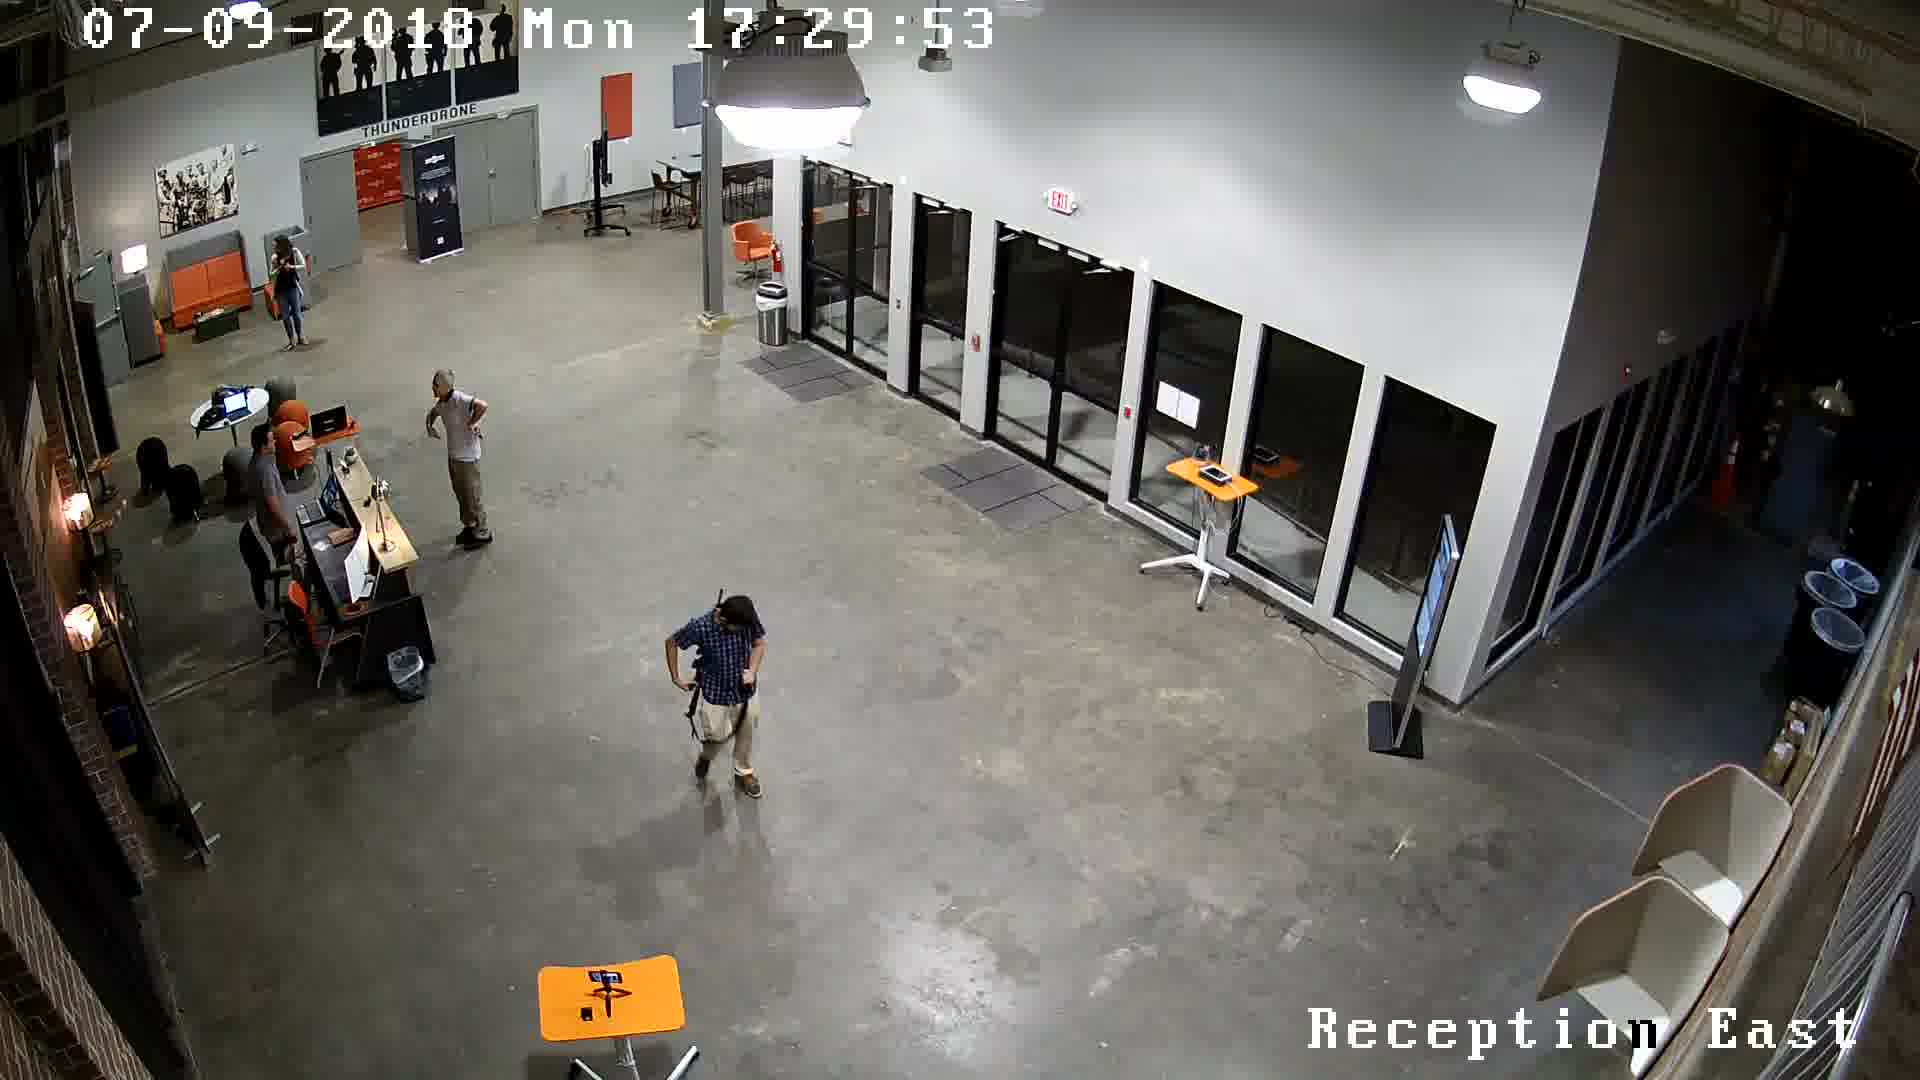pistol: (459, 425, 495, 451)
